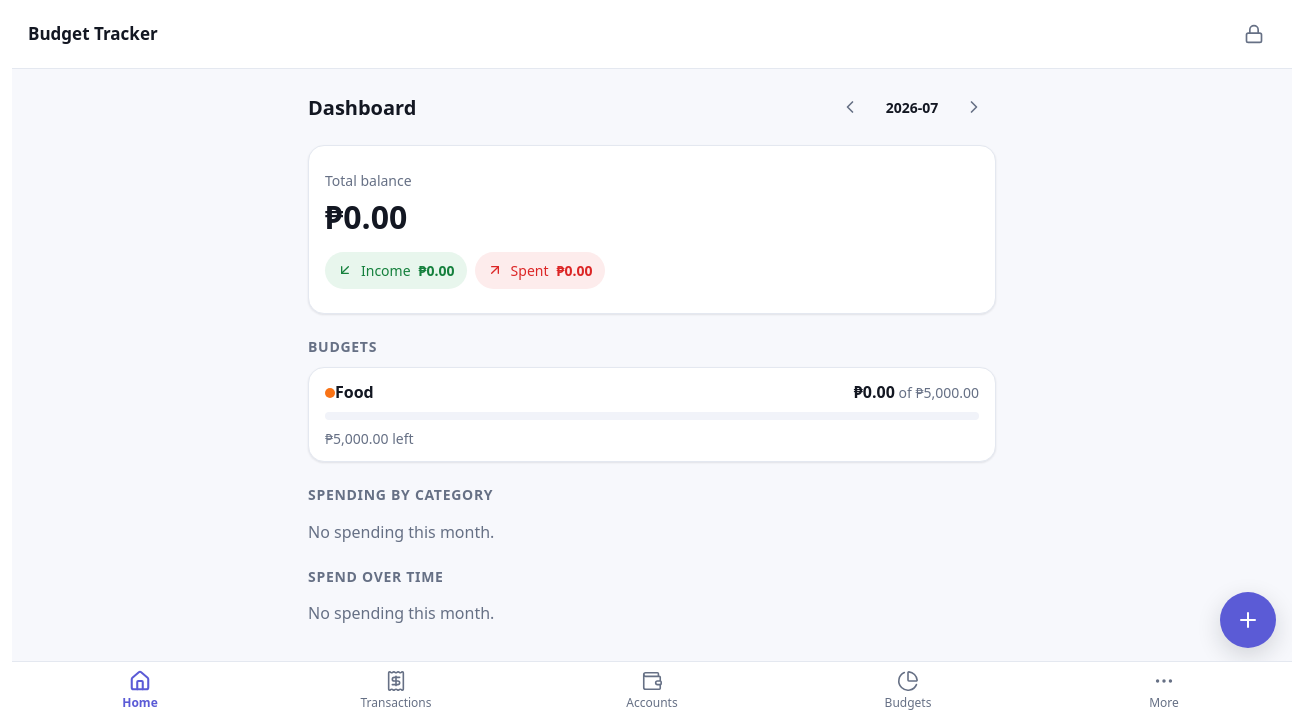
Scenario: CategoriesScreen › edits a category cap
Expected: the button named "Lock" is shown, [1232, 12, 1276, 56]
Click the button "Budgets".
click(908, 691)  # box [780, 662, 1036, 719]
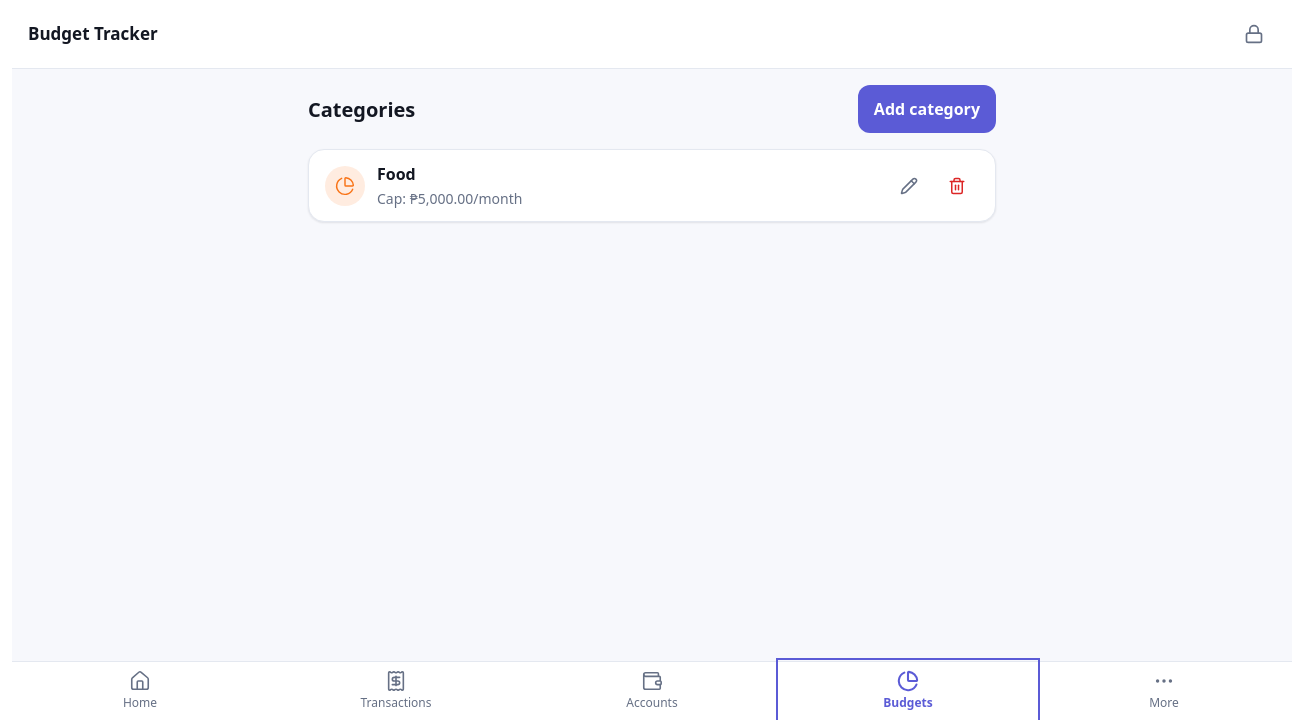
Click the button named "Edit Food".
click(909, 186)  # box [887, 164, 931, 208]
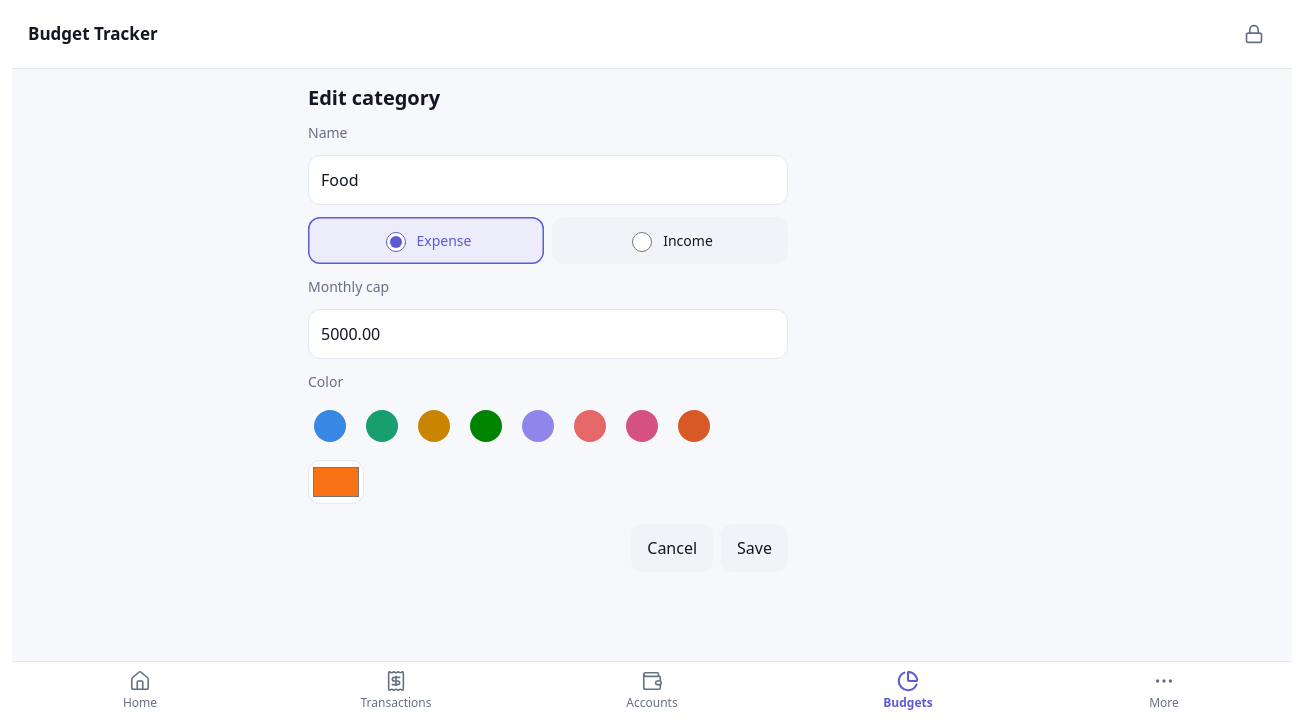
Replace the text in the field labelled "Monthly cap" with "3,000" at (548, 334), box [308, 309, 788, 359]
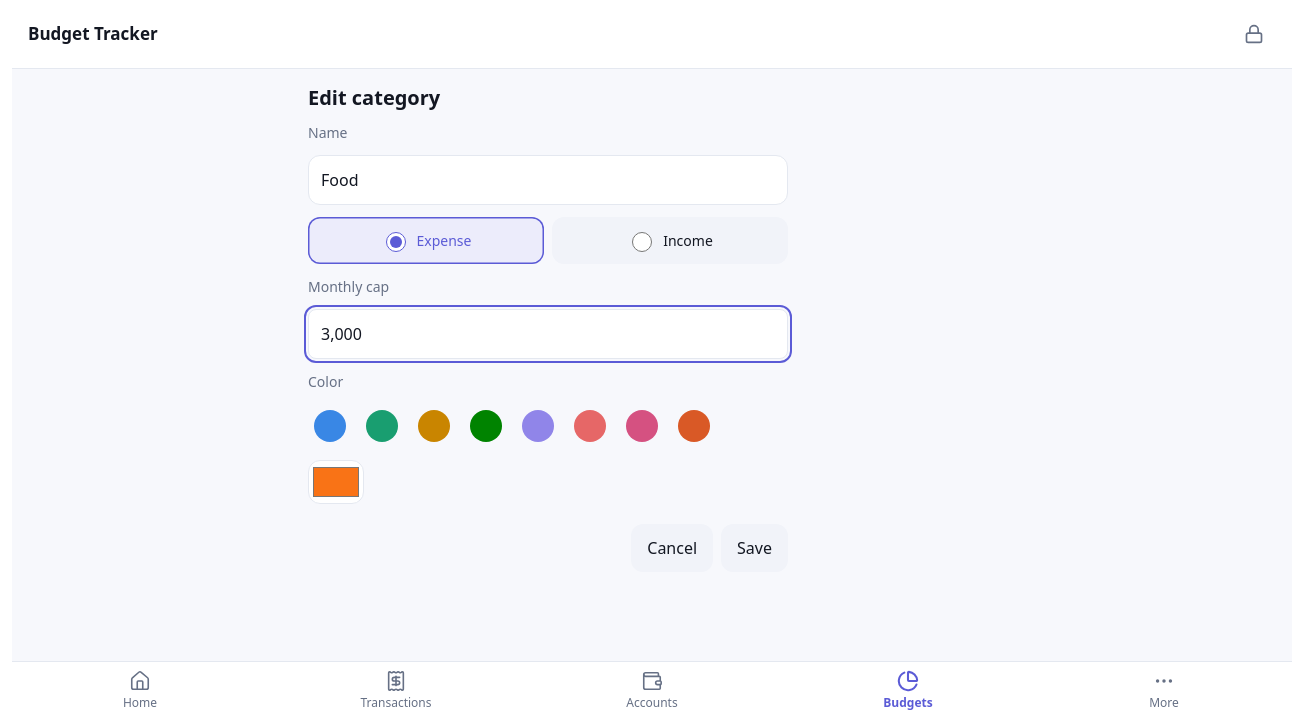
Click the button "Save".
click(755, 548)  # box [721, 524, 788, 572]
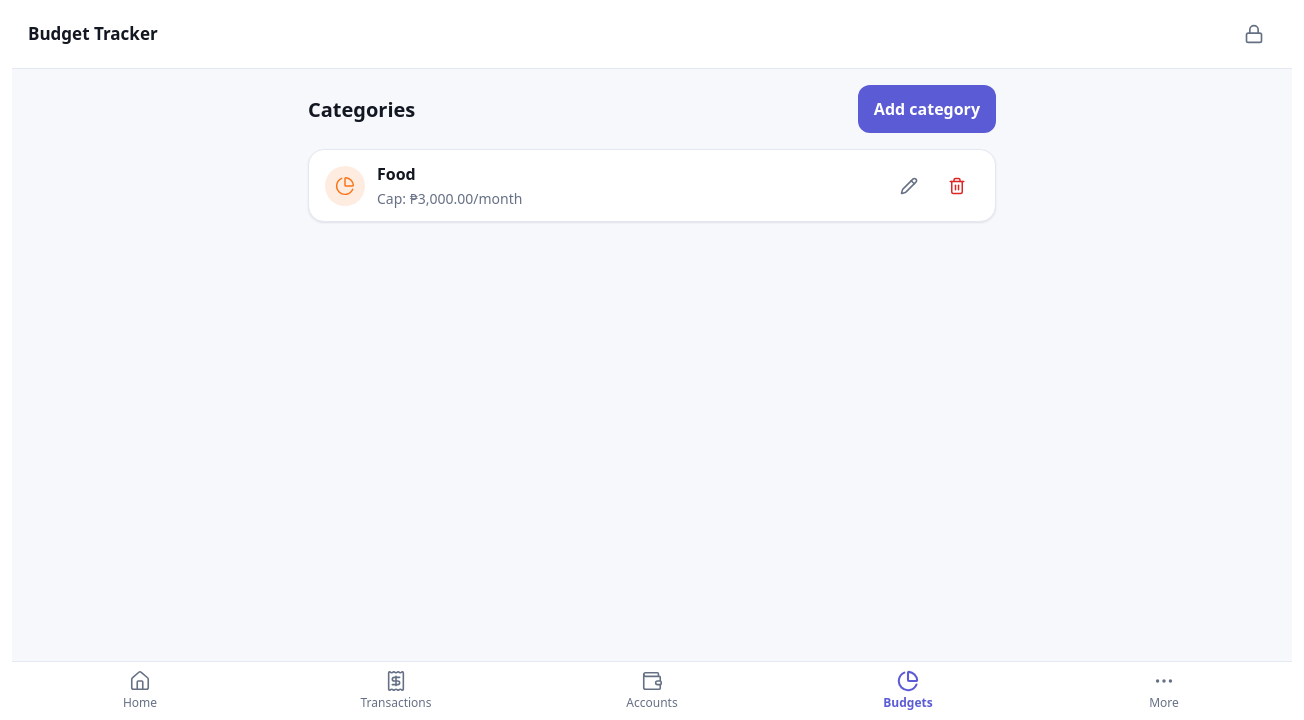
Now the text "Cap: ₱3,000.00/month" is shown, box [377, 188, 522, 209]
